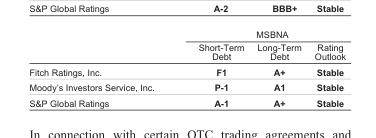table: (28, 28, 345, 107)
table column: (28, 28, 175, 107), (175, 28, 250, 107), (250, 28, 307, 107), (307, 28, 345, 107)
table column header: (28, 28, 345, 63)
table row: (28, 40, 345, 63), (28, 78, 345, 94), (28, 63, 345, 78), (28, 94, 345, 107), (28, 28, 345, 40)
table spanning cell: (175, 28, 345, 40)
